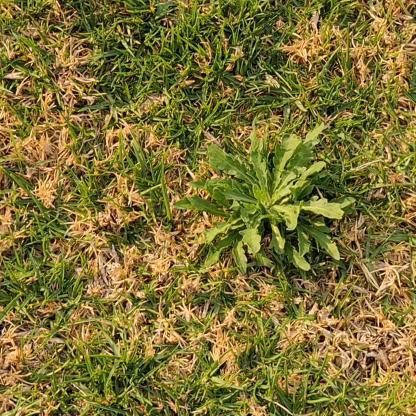Weeds: (167, 122, 356, 274)
